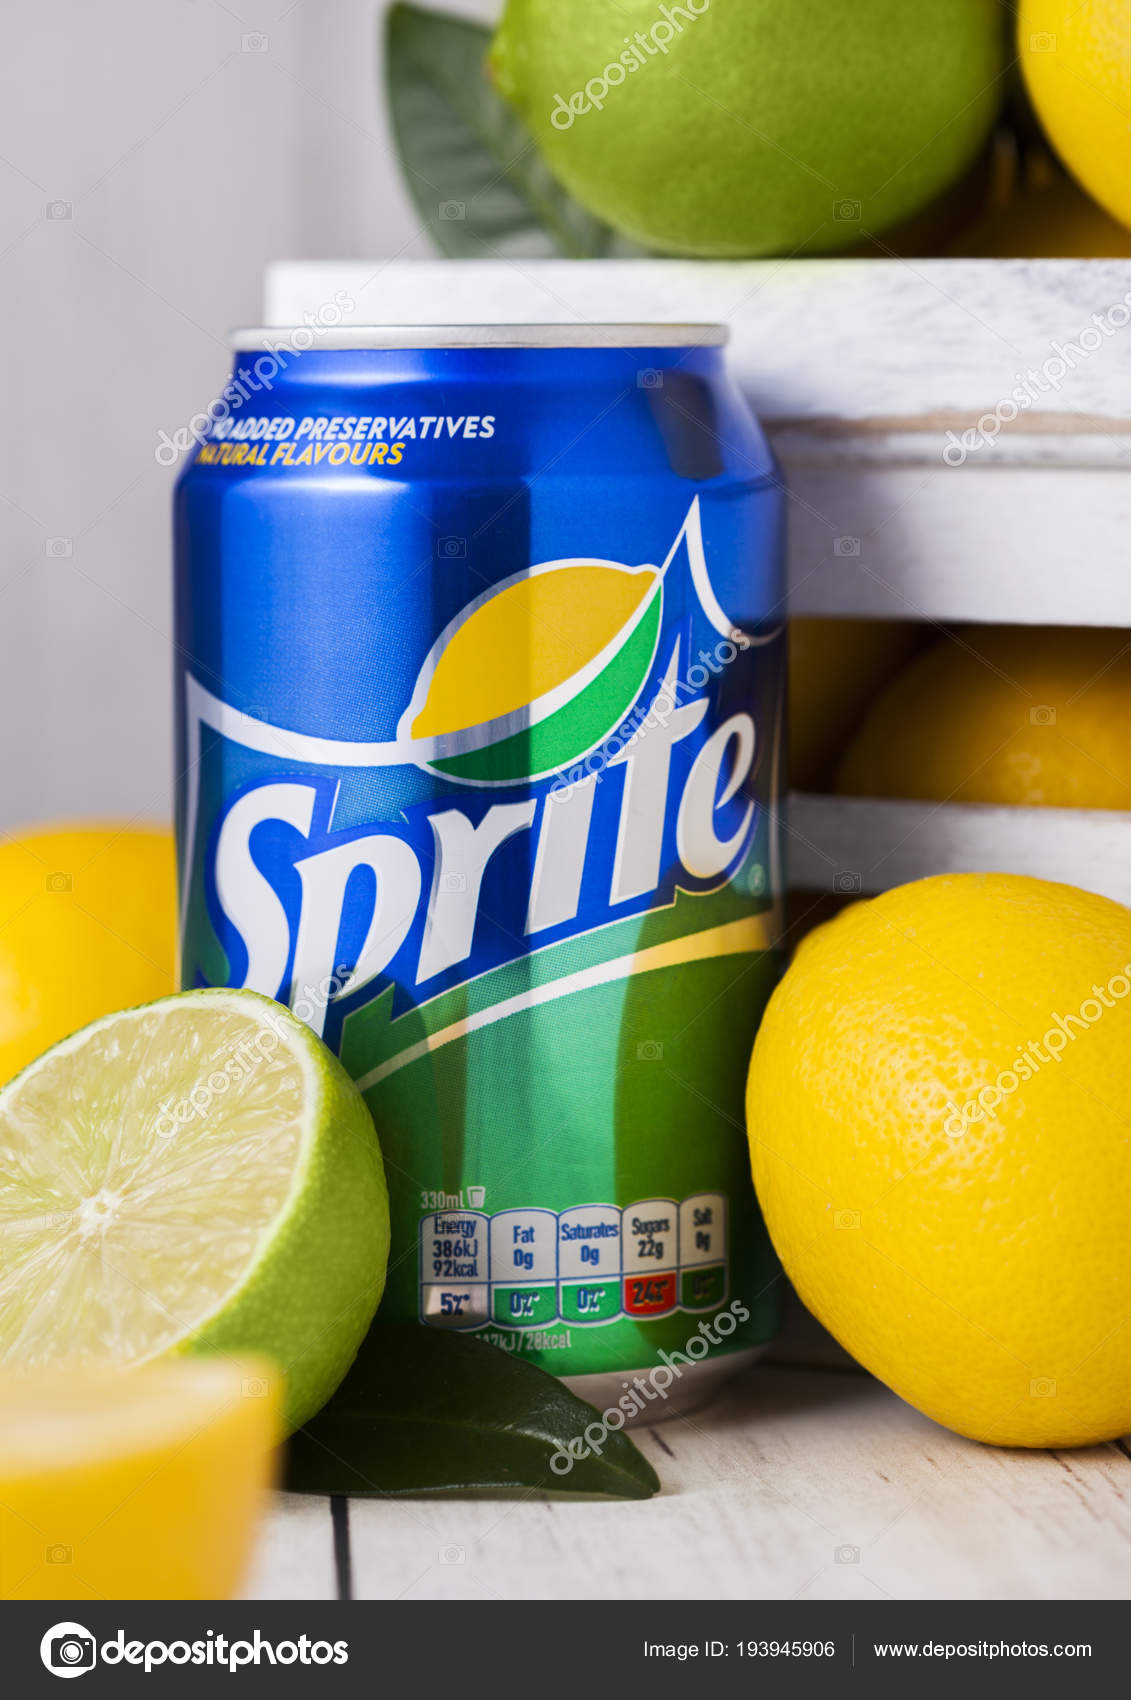sprite: (210, 634, 759, 1035)
